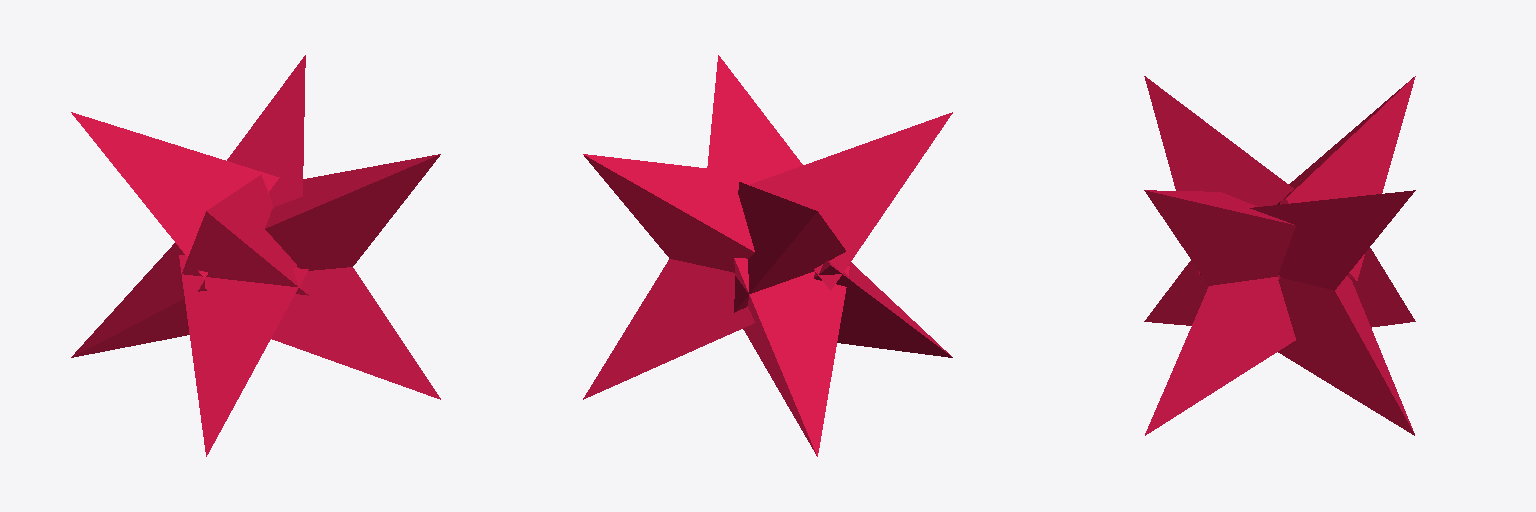
File: spion_core.obj
The picture shows the model from 3 angles: view 1: azimuth 30°, elevation 25°; view 2: azimuth 150°, elevation 25°; view 3: azimuth 270°, elevation 25°; orthographic projection.
Parts seen in each view (by area): view 1: Cone_6, Cone_5, Cone_4, Cone_1, Cone_7, Cone_0, Cone_3; view 2: Cone_3, Cone_0, Cone_7, Cone_2, Cone_1, Cone_5, Cone_6; view 3: Cone_4, Cone_2, Cone_5, Cone_3, Cone_7, Cone_1, Cone_0, Cone_6.
Boxes of the visible parts, <box> form: Cone_6: <box>179,255,308,456</box>; Cone_5: <box>265,154,440,270</box>; Cone_4: <box>271,267,440,399</box>; Cone_1: <box>71,112,279,278</box>; Cone_7: <box>179,175,308,295</box>; Cone_0: <box>71,243,208,357</box>; Cone_3: <box>227,55,305,207</box>; Cone_3: <box>583,154,756,272</box>; Cone_0: <box>734,258,849,456</box>; Cone_7: <box>749,112,952,290</box>; Cone_2: <box>583,259,754,399</box>; Cone_1: <box>734,182,845,312</box>; Cone_5: <box>707,55,802,181</box>; Cone_6: <box>814,260,952,357</box>; Cone_4: <box>1145,277,1295,435</box>; Cone_2: <box>1278,276,1414,435</box>; Cone_5: <box>1144,190,1295,285</box>; Cone_3: <box>1250,190,1415,290</box>; Cone_7: <box>1144,76,1293,274</box>; Cone_1: <box>1280,76,1415,280</box>; Cone_0: <box>1348,248,1415,327</box>; Cone_6: <box>1144,260,1208,325</box>.
Bounding box in the file's own units: 297 × 297 × 297.